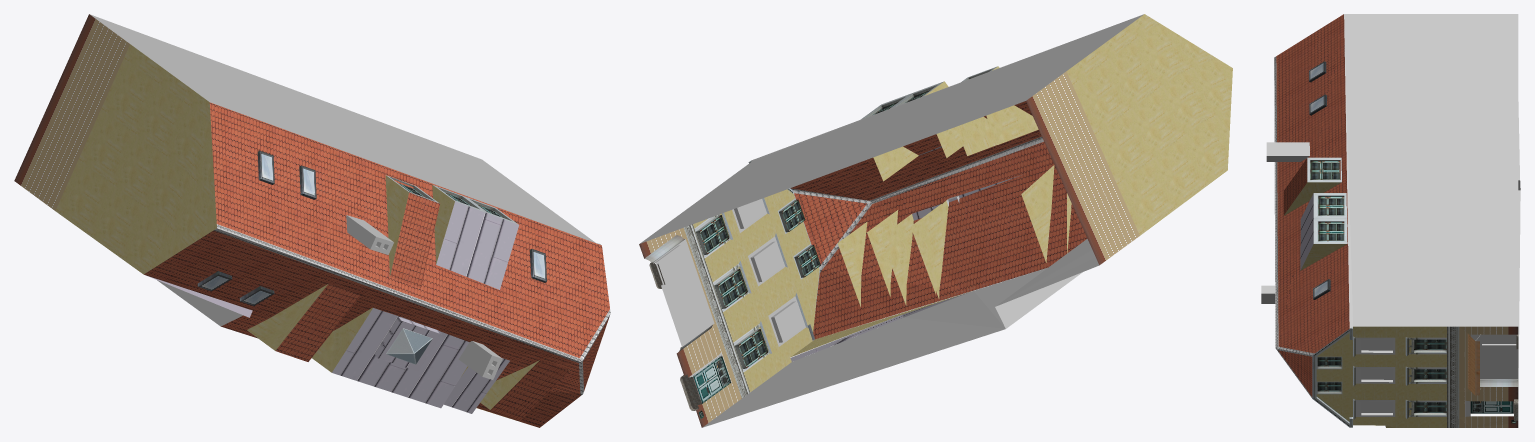
The model's file is Pikk-47.obj.
3 views of the same model, side by side, from view 1: azimuth 30°, elevation 25°; view 2: azimuth 150°, elevation 25°; view 3: azimuth 270°, elevation 25° (orthographic). The views are drawn at different scales.
Visible parts, largest first — view 1: Pikk_47; view 2: Pikk_47; view 3: Pikk_47.
Boxes of the visible parts, x1=… form: Pikk_47: x1=14, y1=14, x2=610, y2=427; Pikk_47: x1=639, y1=14, x2=1232, y2=427; Pikk_47: x1=1261, y1=14, x2=1520, y2=427.
Size of the model in its own units: 27.21 by 22.57 by 17.8.
